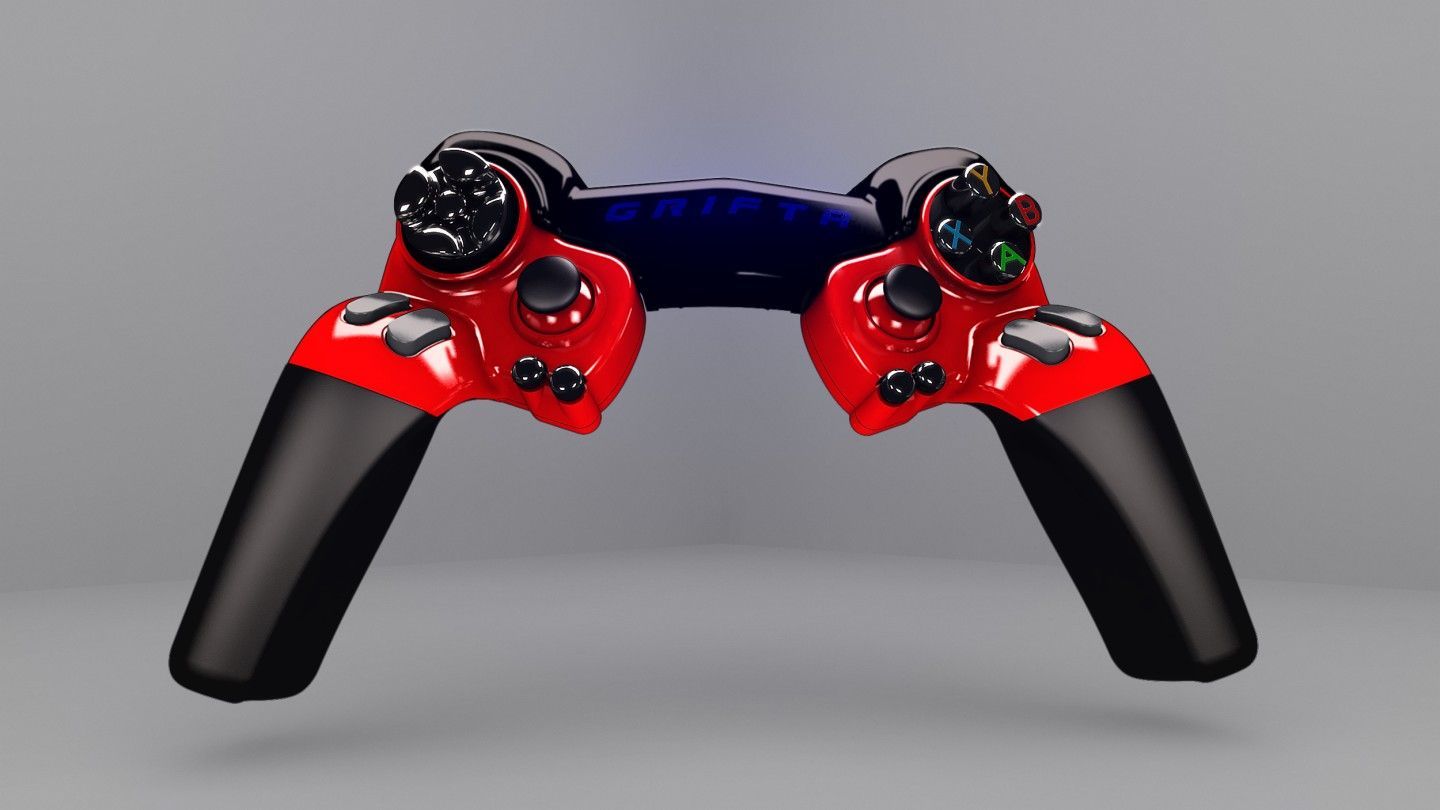controller: (168, 127, 1259, 704)
